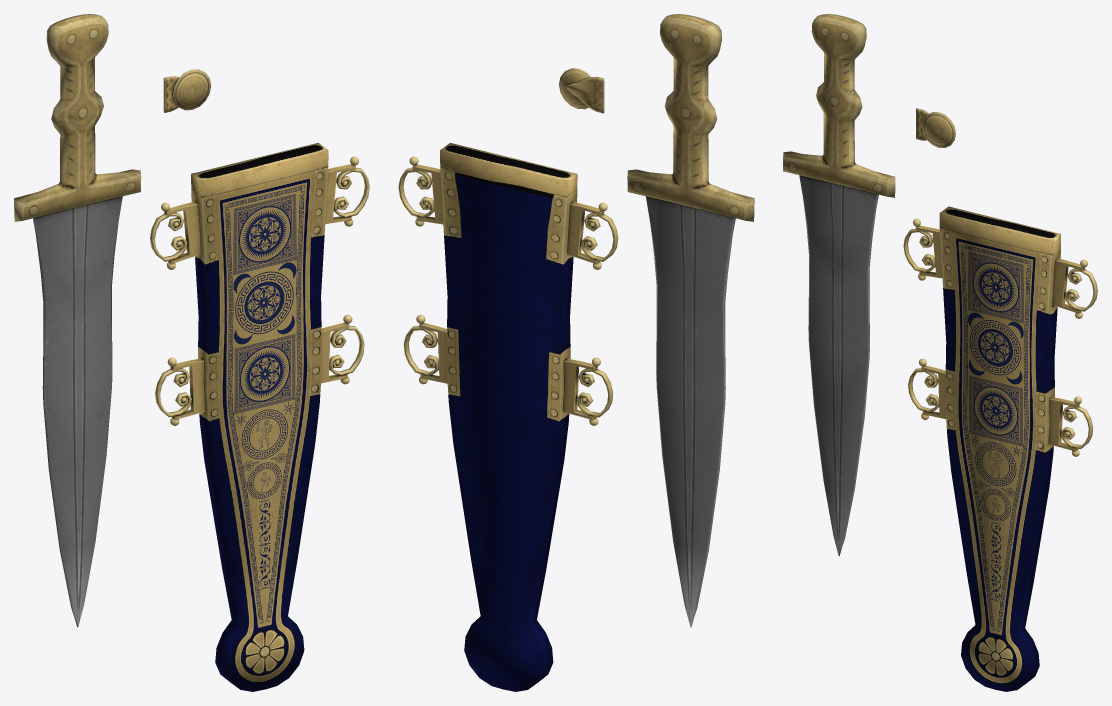
Rendered from dagger.glb.
3 views of the same model, side by side, from view 1: azimuth 30°, elevation 25°; view 2: azimuth 150°, elevation 25°; view 3: azimuth 330°, elevation 25° (orthographic). The views are drawn at different scales.
Visible parts, largest first — view 1: pugio scabbard lp; view 2: pugio scabbard lp; view 3: pugio scabbard lp.
Boxes of the visible parts, x1,y1,x2,y2 form: pugio scabbard lp: [14, 14, 369, 691]; pugio scabbard lp: [398, 14, 754, 691]; pugio scabbard lp: [783, 14, 1097, 691].
Size of the model in its own units: 0.5639 by 1.08 by 0.0314.
1 material, 1 textured.
